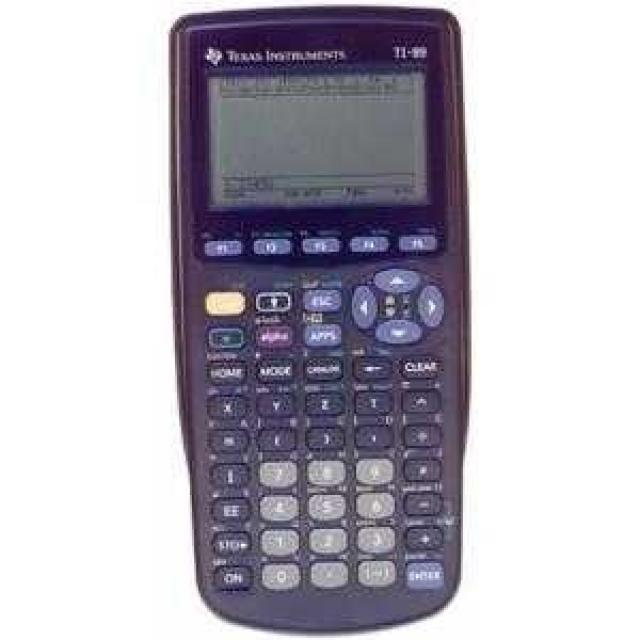Calculator: (166, 2, 472, 634)
